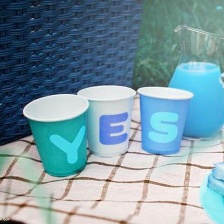paper_cup: (19, 90, 93, 180), (74, 81, 138, 159), (135, 82, 196, 158)
